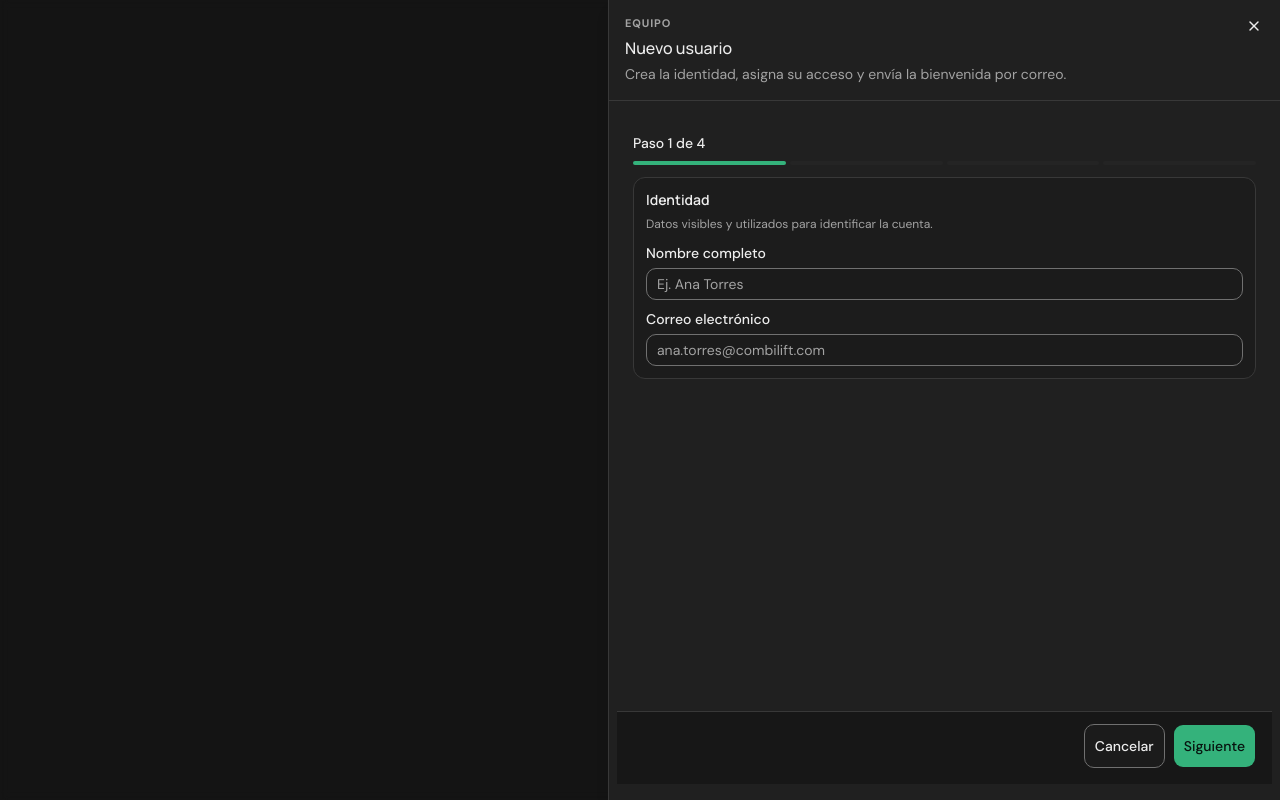
it: ManagedUserSheet › lets a global administrator choose the administrator role for a new user
In the field labelled "Nombre completo": (944, 284) [646,268,1243,300], type "Ana Torres"
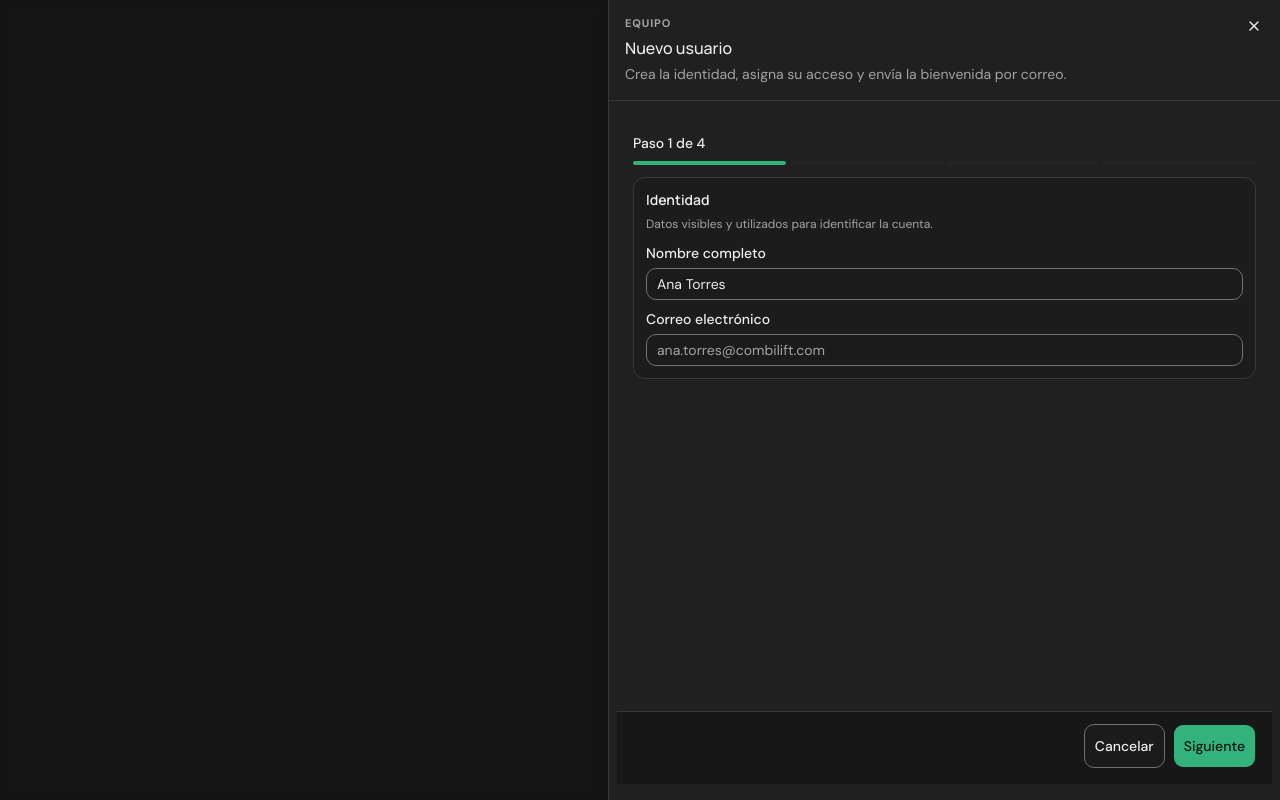
In the field labelled "Correo electrónico": (944, 350) [646,334,1243,366], type "ana@example.com"
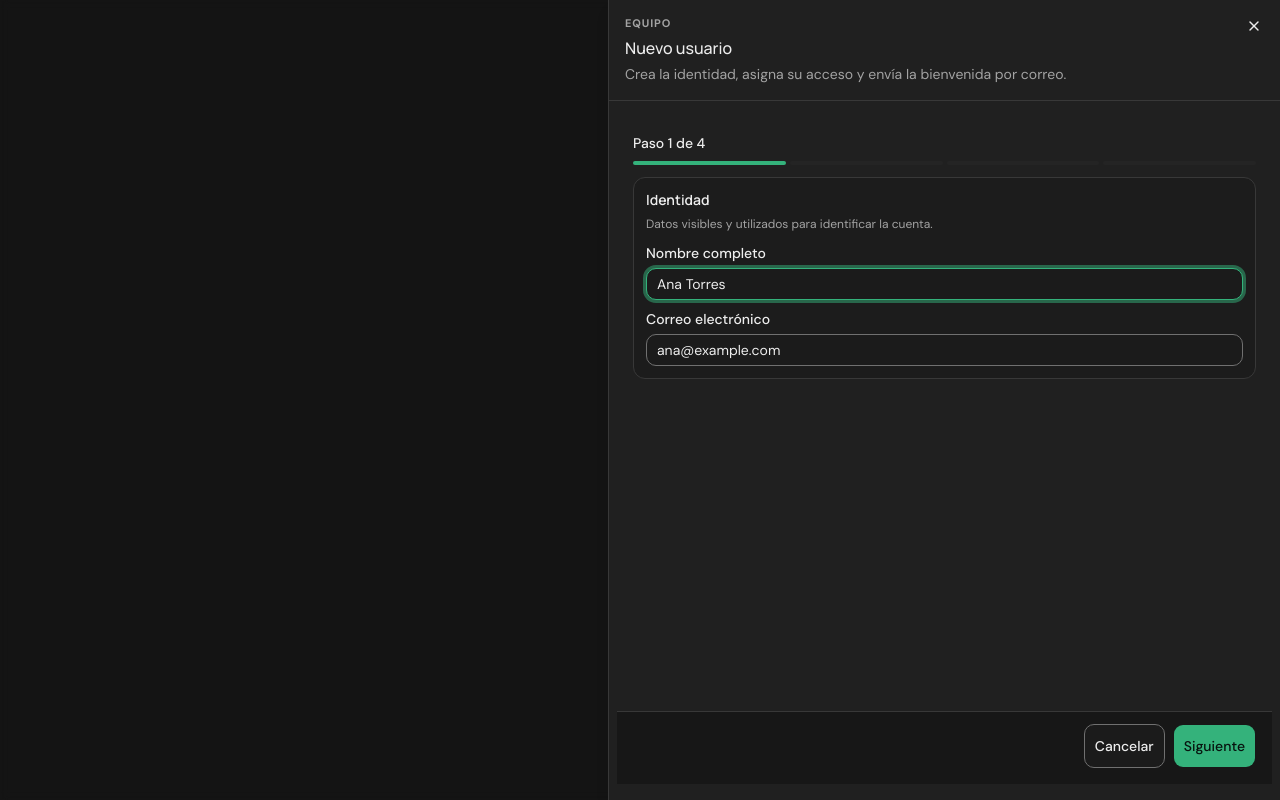
Click the button "Siguiente": (1214, 746) [1173,724,1256,768]
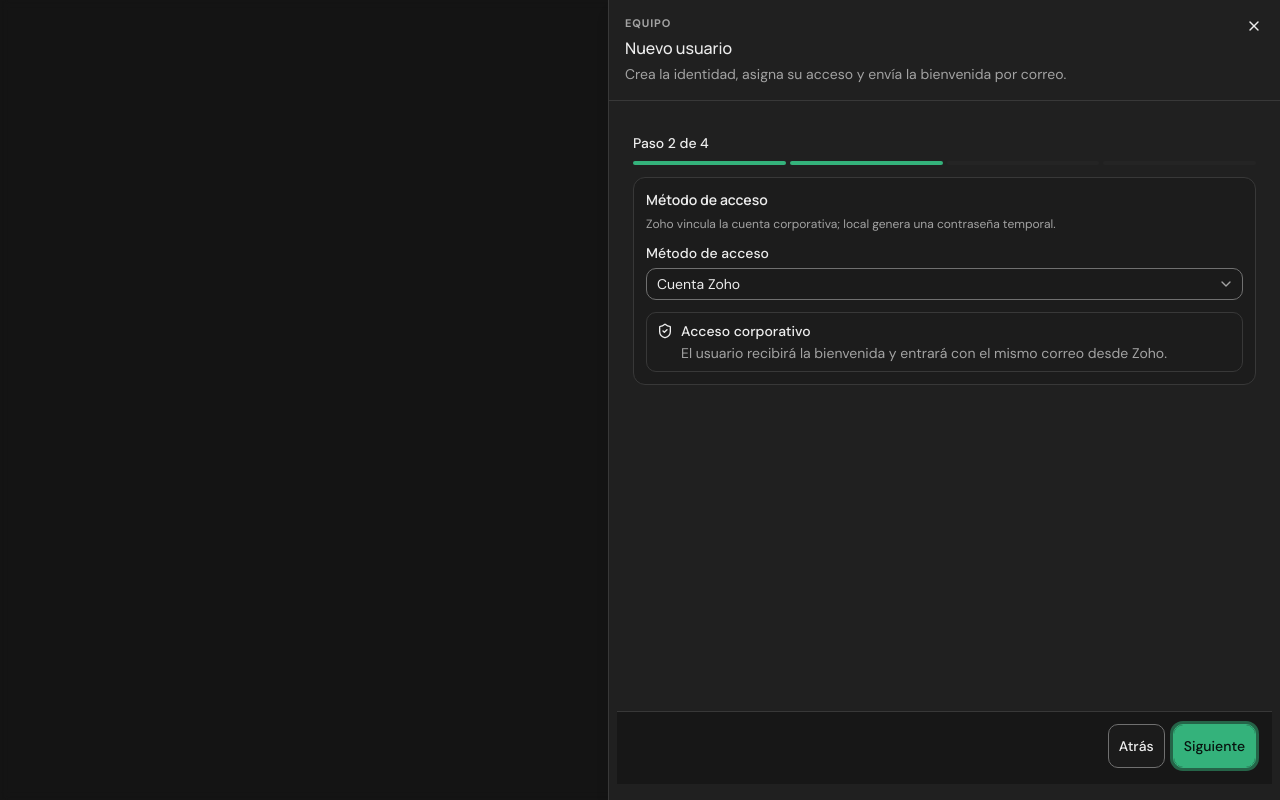
Click the button "Siguiente": (1214, 746) [1173,724,1256,768]
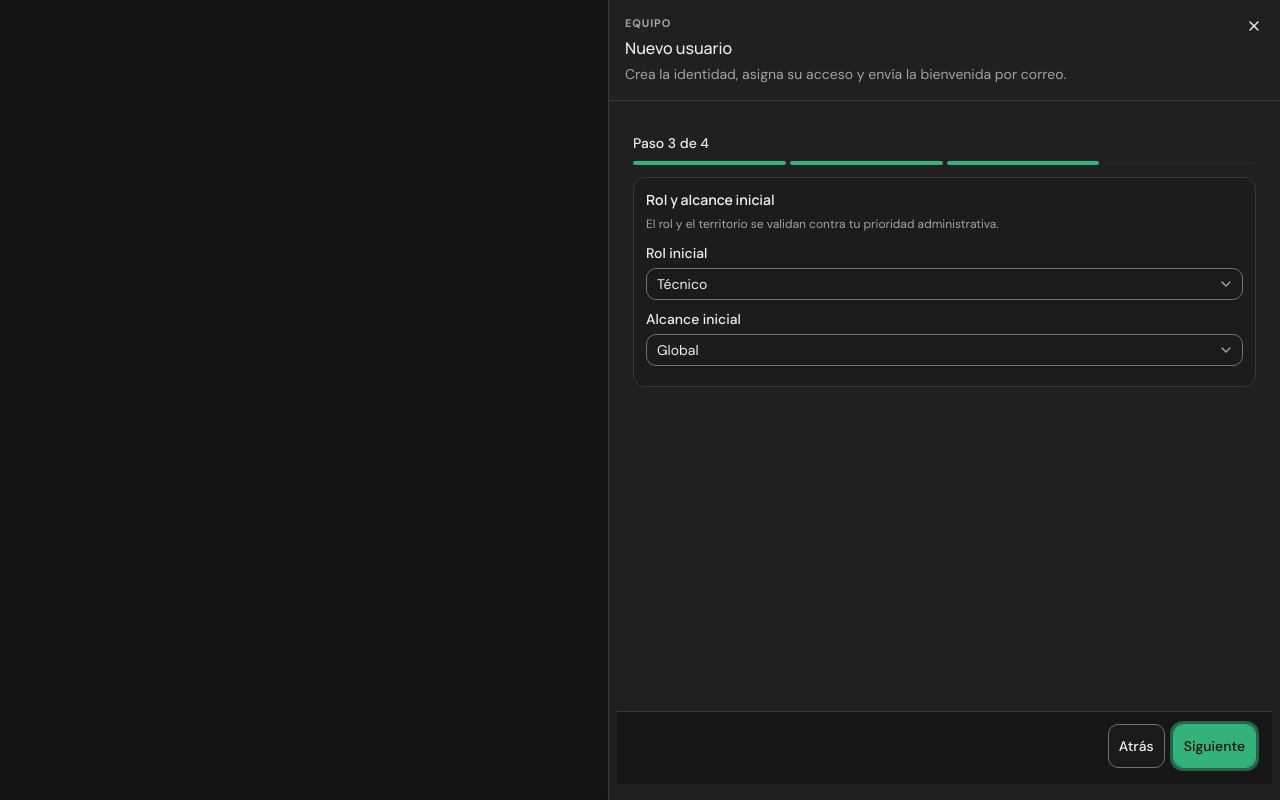
Click the dropdown named "Rol inicial": (682, 284) [646,268,1243,300]
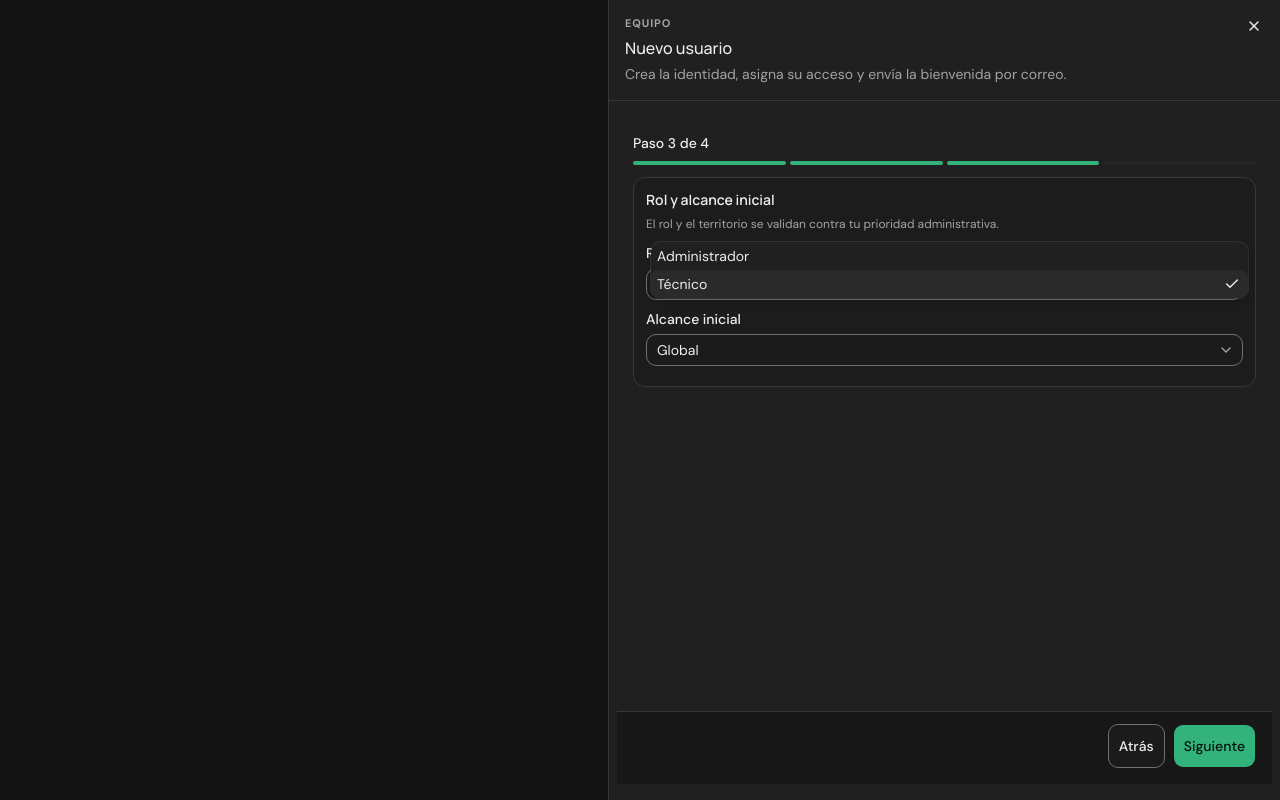
Check: the option "Administrador" is shown, box [657,247,749,265]
Check: the option "Técnico" is shown, box [651,270,1248,298]
